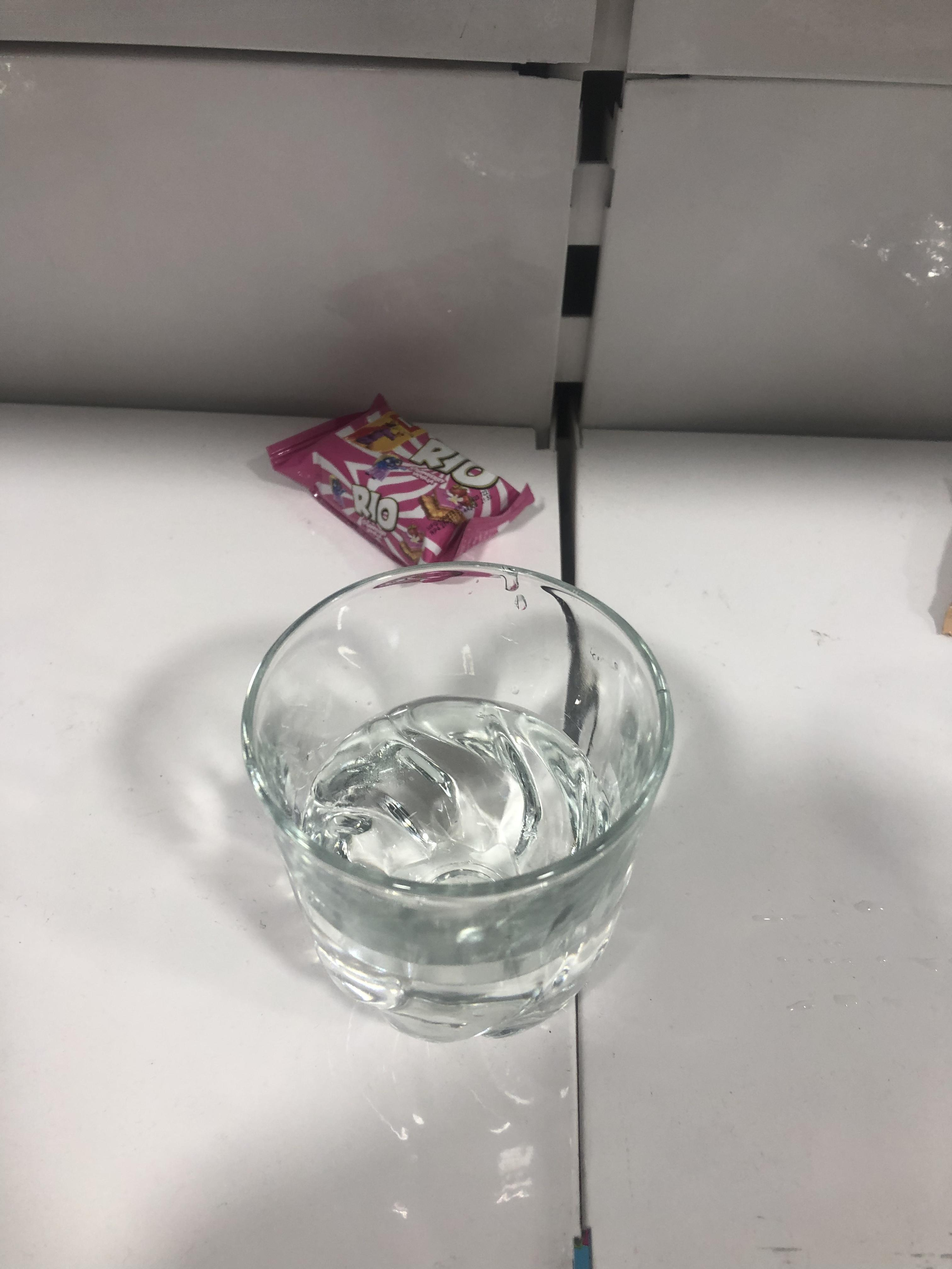glass-normal: (228, 543, 696, 1052)
